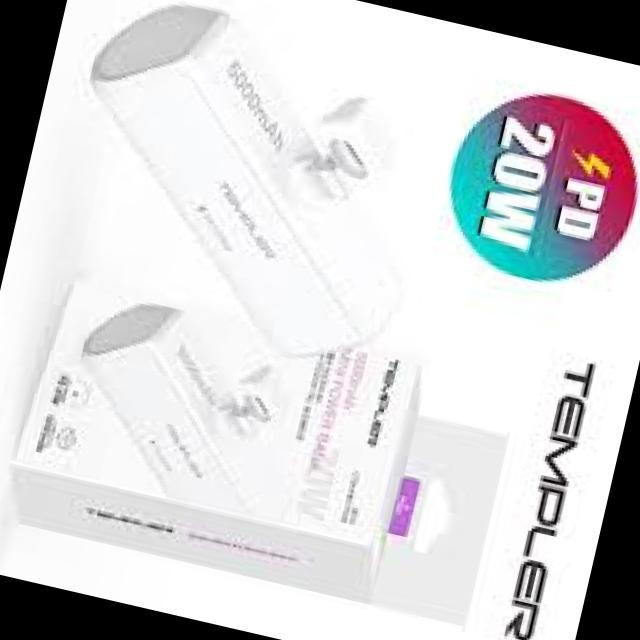power_bank: (41, 0, 463, 376), (52, 286, 306, 518)
